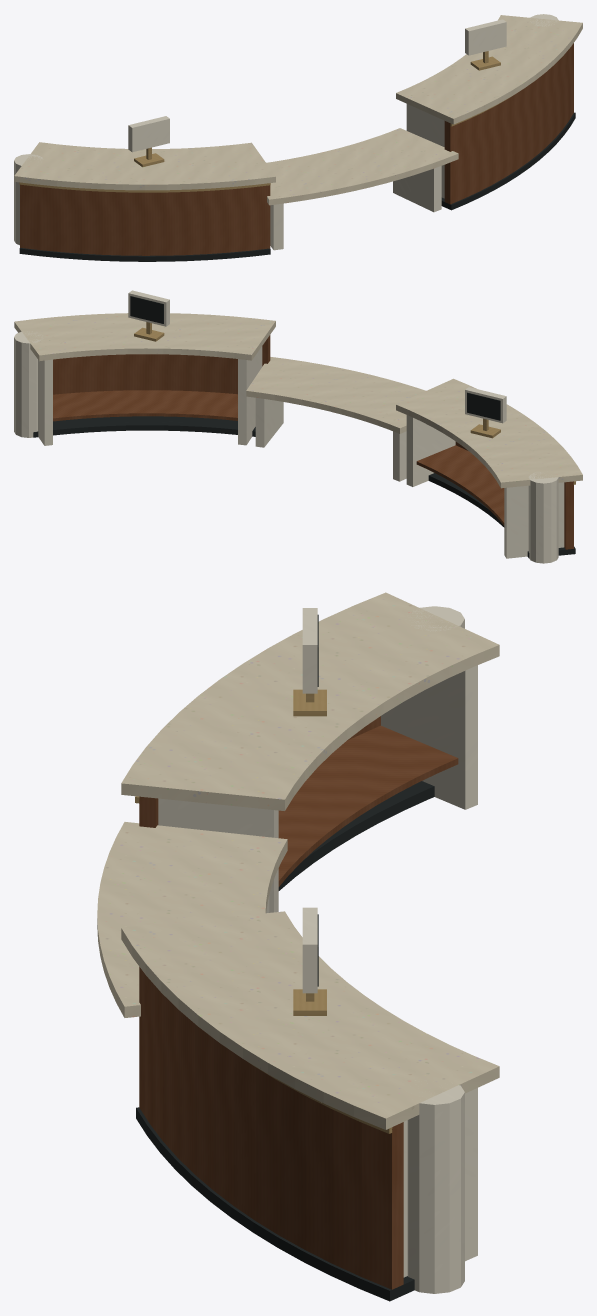
File: AST-ARR-003.glb
The picture shows the model from 3 angles, top to bottom: view 1: azimuth 30°, elevation 25°; view 2: azimuth 150°, elevation 25°; view 3: azimuth 270°, elevation 25°; orthographic projection. The views are drawn at different scales.
Visible parts, largest first — view 1: tall_textured_front_00, lower_support_0.215, standard_textured_front_07, standard_textured_front_08, standard_textured_front_04, standard_textured_front_11, standard_textured_front_05, standard_textured_front_06, standard_textured_front_02, standard_textured_front_03, standard_textured_front_01, standard_textured_front_09 (+53 smaller); view 2: profiled_end_-0.82, profiled_end_0.82, standard_support_-0.7949999999999999, standard_support_-0.265, tall_support_0.265, tall_support_0.7949999999999999, lower_support_0.215, standard_stone_worktop_00, tall_stone_worktop_00, tall_stone_worktop_11, tall_stone_worktop_03, tall_stone_worktop_08 (+58 smaller); view 3: profiled_end_0.82, standard_support_-0.7949999999999999, tall_textured_front_11, standard_stone_worktop_11, tall_textured_front_10, tall_textured_front_09, tall_stone_worktop_11, tall_textured_front_08, tall_textured_front_07, standard_support_-0.265, tall_textured_front_06, tall_stone_worktop_10 (+44 smaller).
Part boxes in pixels (<box>): tall_textured_front_00: <box>444,121,465,204</box>; lower_support_0.215: <box>393,166,441,212</box>; standard_textured_front_07: <box>166,192,187,255</box>; standard_textured_front_08: <box>187,191,208,254</box>; standard_textured_front_04: <box>102,191,123,255</box>; standard_textured_front_11: <box>249,185,270,250</box>; standard_textured_front_05: <box>124,192,144,255</box>; standard_textured_front_06: <box>145,192,165,255</box>; standard_textured_front_02: <box>61,189,81,253</box>; standard_textured_front_03: <box>82,190,102,254</box>; standard_textured_front_01: <box>40,187,60,251</box>; standard_textured_front_09: <box>208,189,228,253</box>; profiled_end_-0.82: <box>528,472,558,563</box>; profiled_end_0.82: <box>14,331,43,437</box>; standard_support_-0.7949999999999999: <box>504,482,564,558</box>; standard_support_-0.265: <box>406,415,455,486</box>; tall_support_0.265: <box>238,346,262,445</box>; tall_support_0.7949999999999999: <box>38,359,52,445</box>; lower_support_0.215: <box>255,398,283,447</box>; standard_stone_worktop_00: <box>496,466,582,488</box>; tall_stone_worktop_00: <box>234,318,275,360</box>; tall_stone_worktop_11: <box>14,319,56,361</box>; tall_stone_worktop_03: <box>181,313,210,355</box>; tall_stone_worktop_08: <box>79,314,109,355</box>; profiled_end_0.82: <box>407,1083,464,1293</box>; standard_support_-0.7949999999999999: <box>381,665,477,809</box>; tall_textured_front_11: <box>362,1122,403,1289</box>; standard_stone_worktop_11: <box>121,765,293,810</box>; tall_textured_front_10: <box>333,1110,361,1276</box>; tall_textured_front_09: <box>306,1096,333,1263</box>; tall_stone_worktop_11: <box>354,1056,499,1129</box>; tall_textured_front_08: <box>280,1082,305,1250</box>; tall_textured_front_07: <box>256,1068,280,1235</box>; standard_support_-0.265: <box>158,798,278,912</box>; tall_textured_front_06: <box>234,1053,256,1220</box>; tall_stone_worktop_10: <box>323,1044,473,1116</box>.
Size of the model in its own units: 7.81 by 1.76 by 2.39.
Materials: 5 (5 with a texture image).
